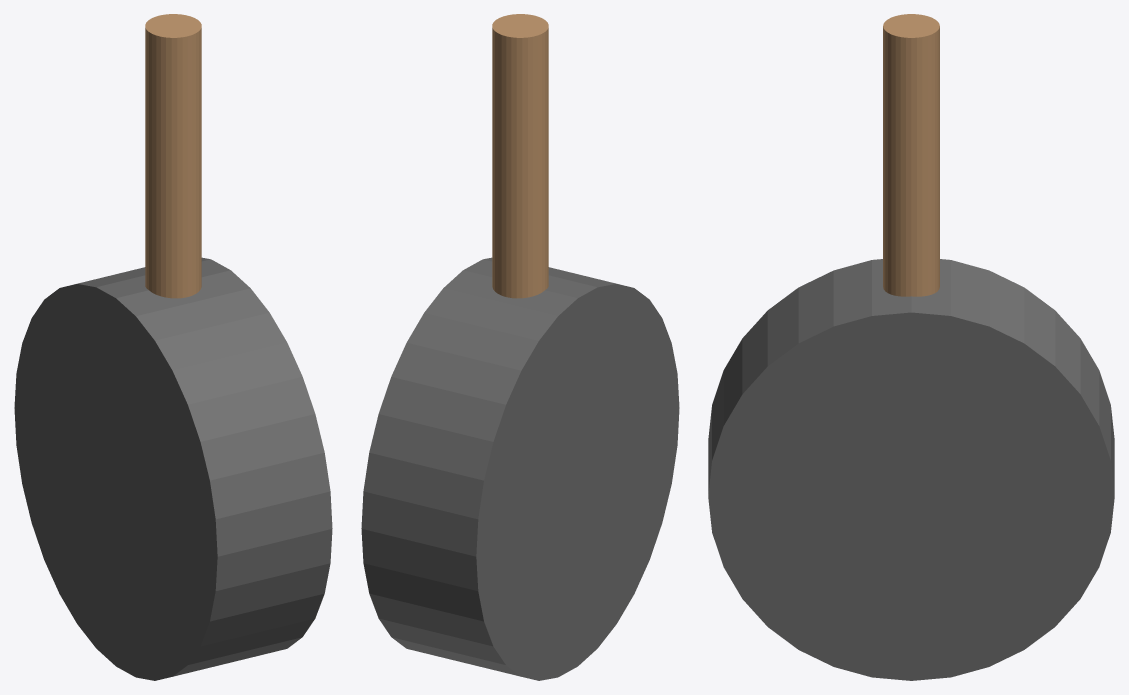
The model's file is Lever.fbx.
The picture shows the model from 3 angles, left to right: view 1: azimuth 30°, elevation 25°; view 2: azimuth 150°, elevation 25°; view 3: azimuth 270°, elevation 25°; orthographic projection.
Parts seen in each view (by area): view 1: Cylinder; view 2: Cylinder; view 3: Cylinder.
Boxes of the visible parts, left/top/right/bottom form: Cylinder: left=14, top=14, right=332, bottom=680; Cylinder: left=361, top=14, right=679, bottom=680; Cylinder: left=708, top=14, right=1114, bottom=680.
Size of the model in its own units: 121 by 629 by 370.
